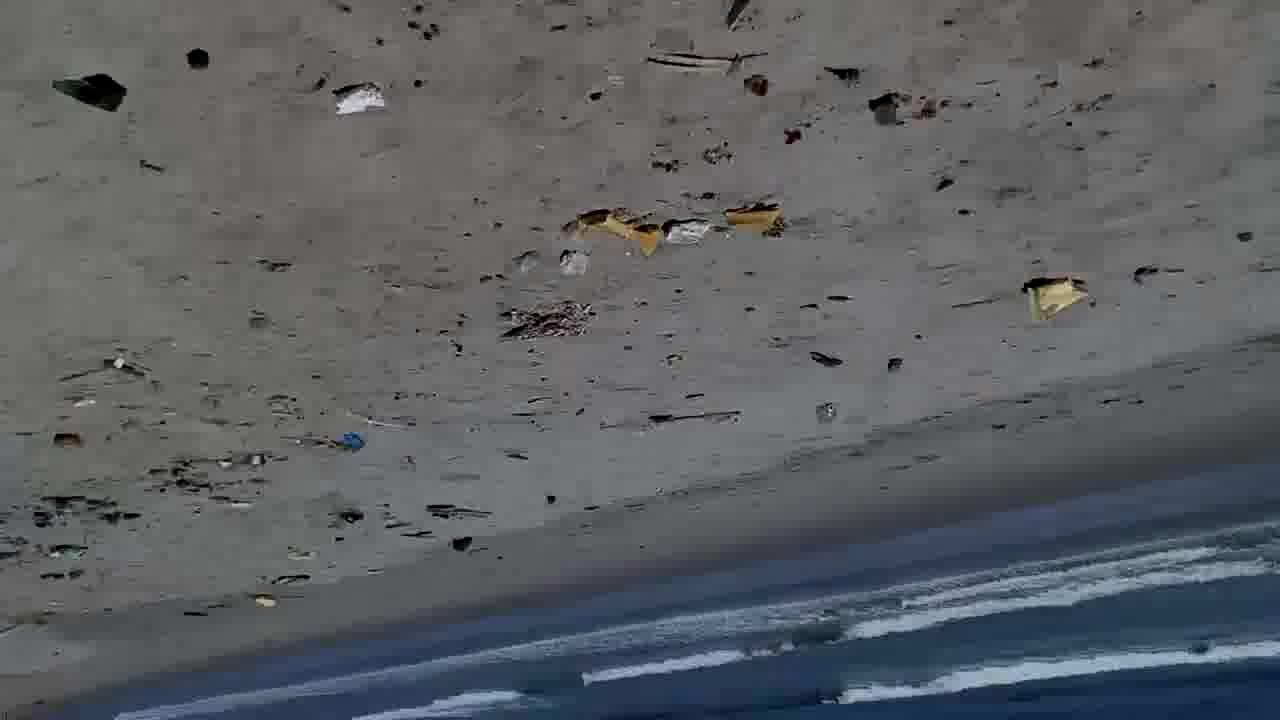obj: (502, 300, 590, 344), (582, 212, 660, 257), (46, 70, 126, 113), (1021, 278, 1087, 320), (645, 410, 743, 428), (334, 84, 386, 116), (725, 208, 778, 232), (188, 46, 212, 75), (52, 435, 87, 450), (335, 430, 363, 447)
sand/background: (0, 455, 1280, 719)
